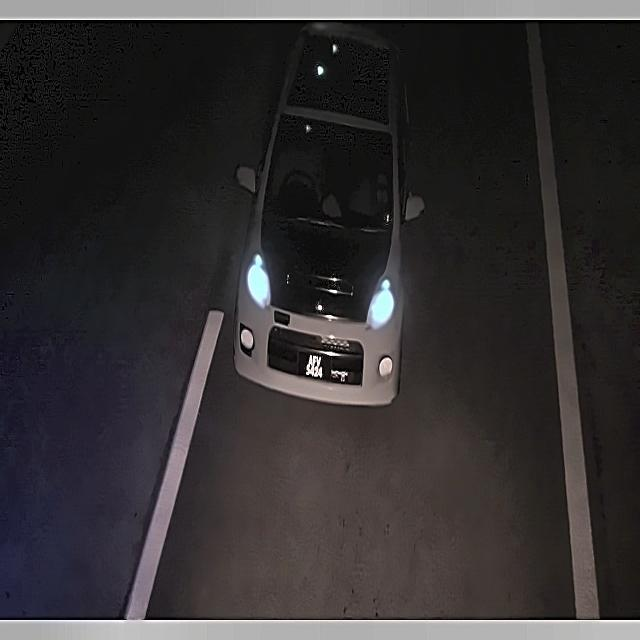car: (295, 344, 334, 385)
